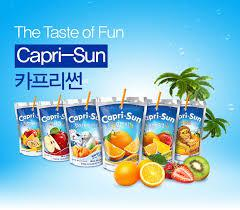cafrisun: (95, 98, 148, 166)
